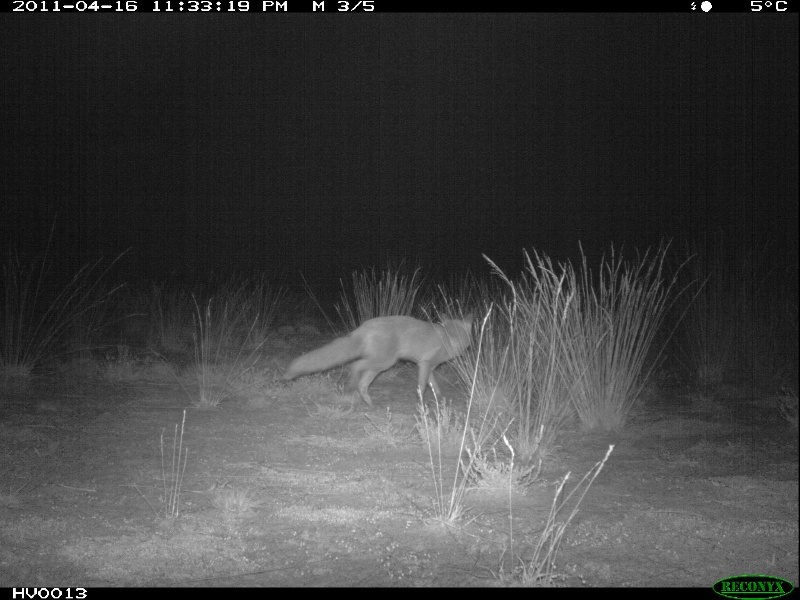fox: (283, 307, 483, 403)
